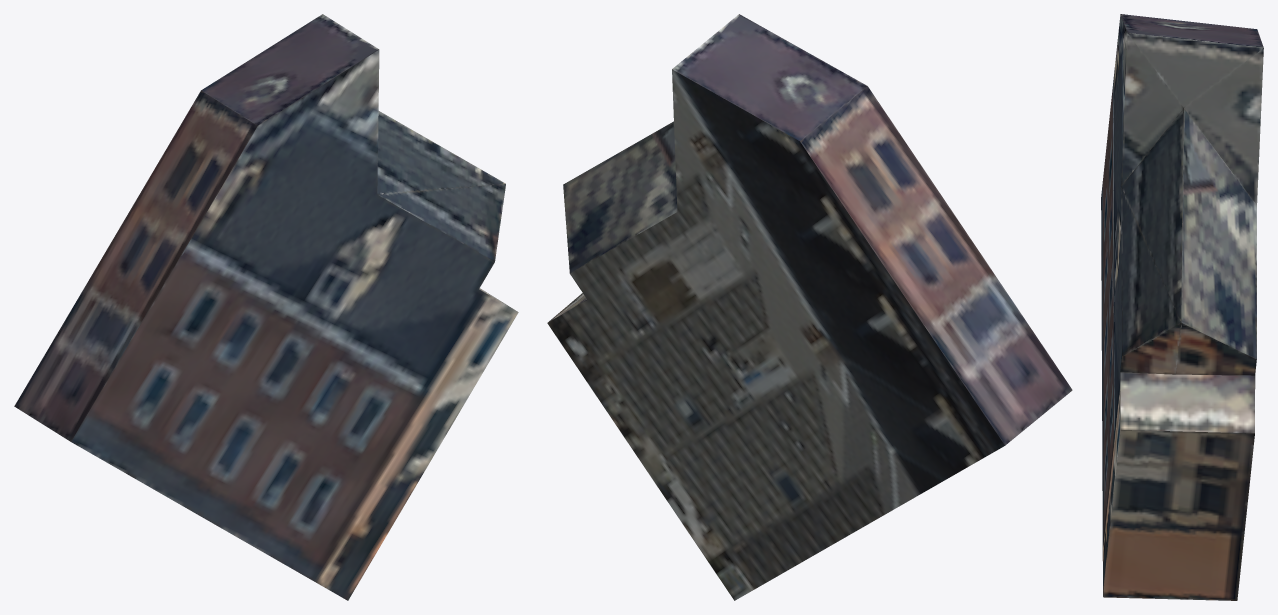
3 renders of one model, left to right at view 1: azimuth 30°, elevation 25°; view 2: azimuth 150°, elevation 25°; view 3: azimuth 270°, elevation 25°, orthographic. The views are drawn at different scales.
Parts seen in each view (by area): view 1: BAG_0599100000671734; view 2: BAG_0599100000671734; view 3: BAG_0599100000671734 (×4).
Boxes of the visible parts, <box> form: BAG_0599100000671734: <box>14,14,518,600</box>; BAG_0599100000671734: <box>547,14,1072,600</box>; BAG_0599100000671734 (×4): <box>1101,14,1263,600</box>.
Size of the model in its own units: 20.31 by 22.12 by 5.51.
4 materials, 4 textured.
